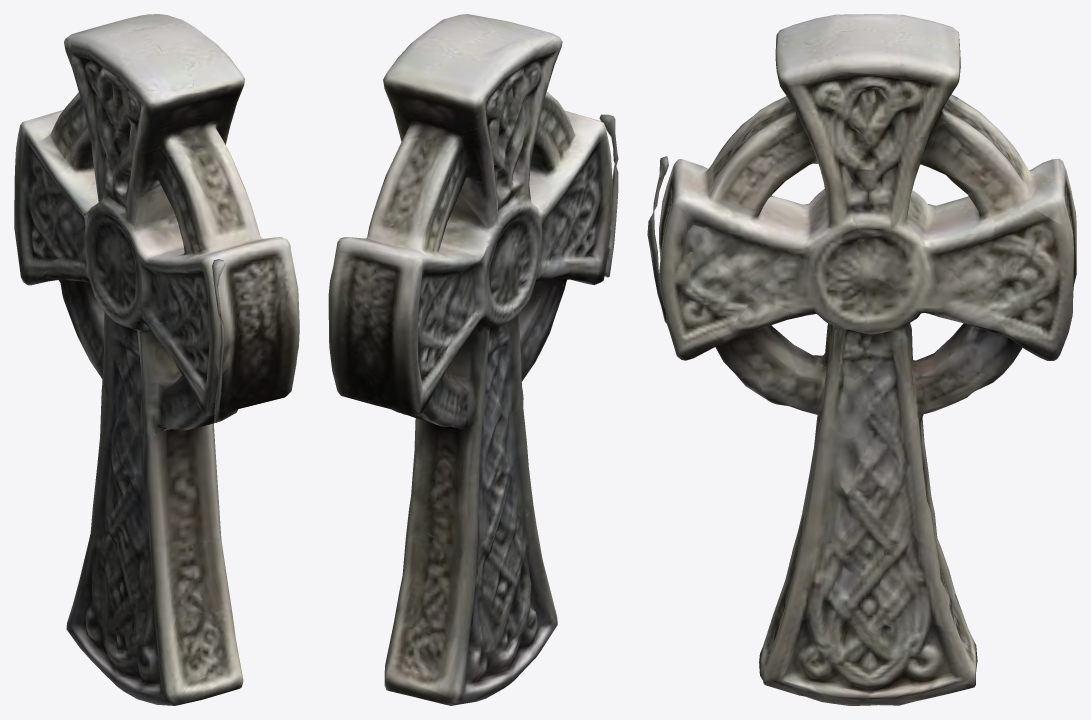
3 views of the same model, side by side, from view 1: azimuth 30°, elevation 25°; view 2: azimuth 150°, elevation 25°; view 3: azimuth 270°, elevation 25° (orthographic). The views are drawn at different scales.
Visible parts, largest first — view 1: tripo_node_138033c7-ba15-4924-9105-610cbc9ad77b_0; view 2: tripo_node_138033c7-ba15-4924-9105-610cbc9ad77b_0; view 3: tripo_node_138033c7-ba15-4924-9105-610cbc9ad77b_0.
Boxes of the visible parts, <box> form: tripo_node_138033c7-ba15-4924-9105-610cbc9ad77b_0: <box>14,14,299,705</box>; tripo_node_138033c7-ba15-4924-9105-610cbc9ad77b_0: <box>328,14,618,705</box>; tripo_node_138033c7-ba15-4924-9105-610cbc9ad77b_0: <box>647,14,1076,705</box>.
Bounding box in the file's own units: 0.1522 × 0.9415 × 0.5539.
Materials: 1 (1 with a texture image).
